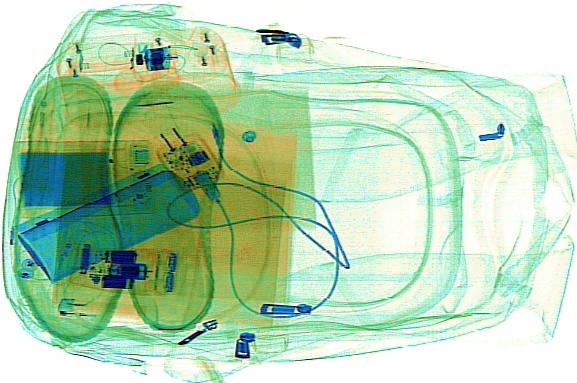lighter: (55, 297, 146, 324)
